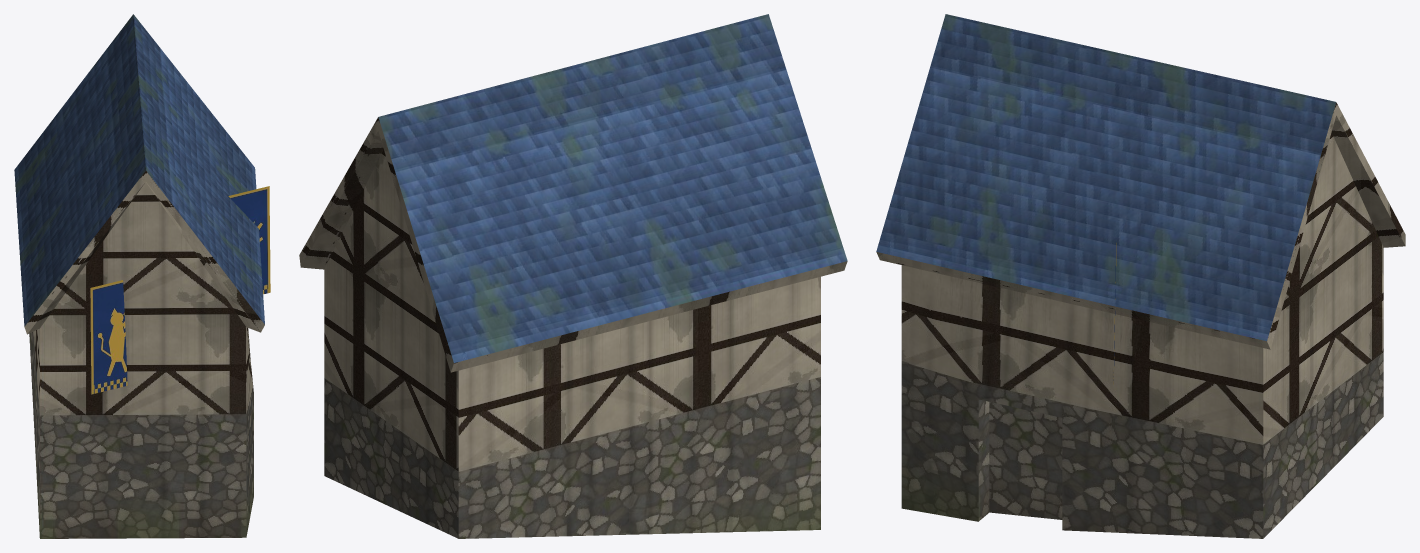
The model's file is house_02_card.glb.
The picture shows the model from 3 angles, left to right: view 1: azimuth 30°, elevation 25°; view 2: azimuth 150°, elevation 25°; view 3: azimuth 270°, elevation 25°; orthographic projection. The views are drawn at different scales.
Visible parts, largest first — view 1: house_02_game_card; view 2: house_02_game_card; view 3: house_02_game_card.
Boxes of the visible parts, bbox=[...] form: house_02_game_card: bbox=[14, 14, 270, 538]; house_02_game_card: bbox=[299, 14, 847, 538]; house_02_game_card: bbox=[876, 14, 1405, 538].
Bounding box in the file's own units: 9.3 × 9.89 × 10.62.
1 material, 1 textured.
